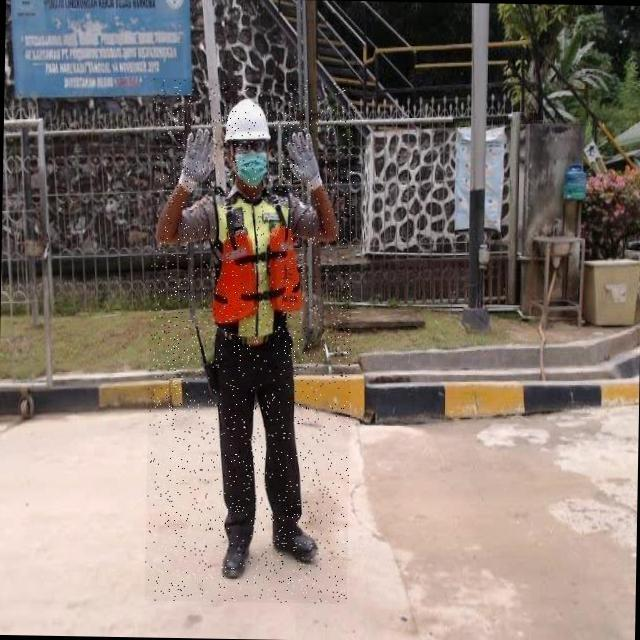Gloves: (172, 120, 224, 195), (278, 124, 331, 196)
Helmet: (218, 89, 276, 154)
Person: (131, 70, 359, 597)
Safety Boot: (267, 522, 326, 569), (215, 534, 257, 583)
Safety Vest: (203, 185, 309, 337)
